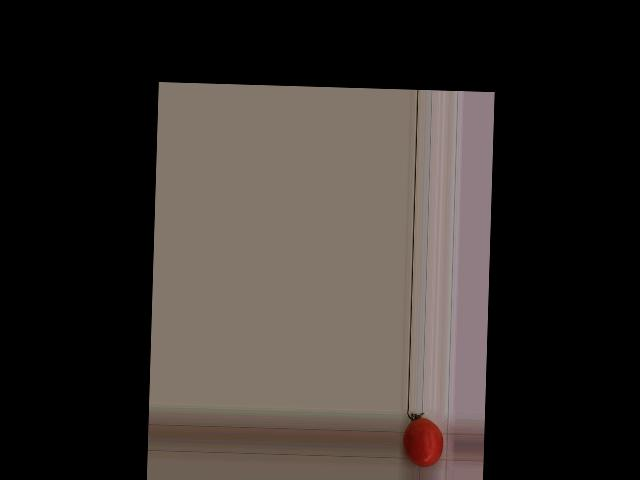tomato: (402, 417, 444, 467)
